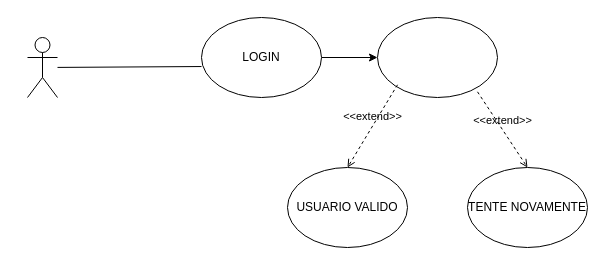
Some shapes in this 605 by 265 pixel diagram are drawn without their labels. The shapes that lost their labels are listed below. From the top down, each one's centre as x and y in pixels, then its label:
At (x=42, y=67): "CLIENTE".
At (x=437, y=57): "INFORMAR USUARIO E SENHA".
